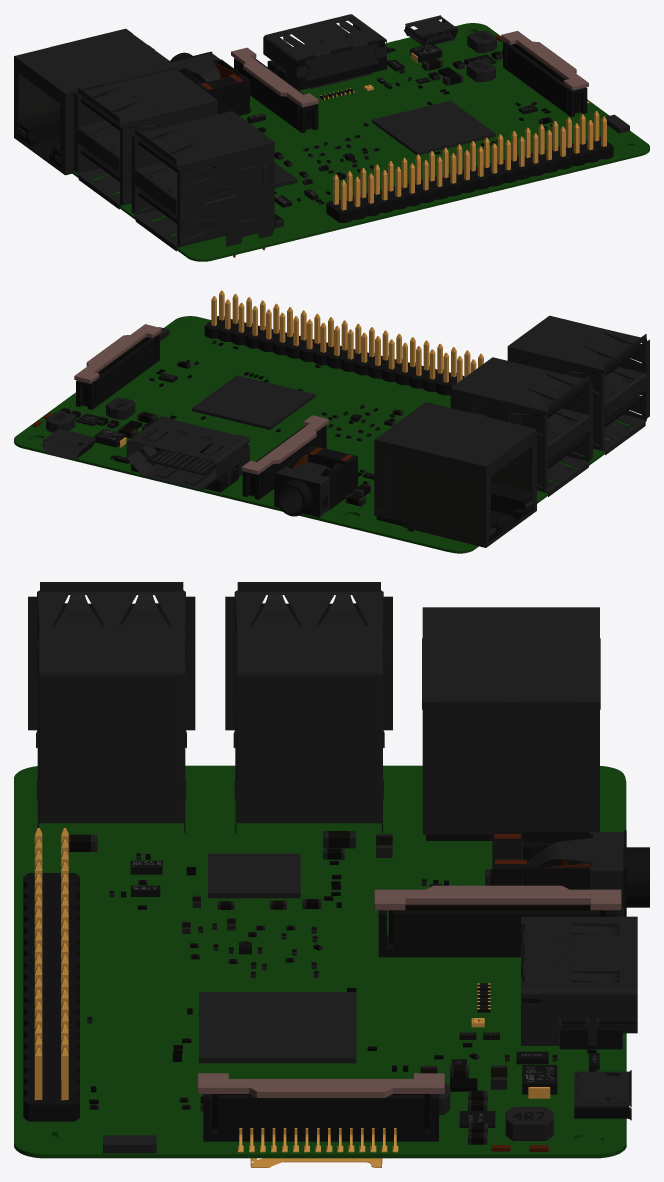
The model's file is RaspberryPi.obj.
The picture shows the model from 3 angles, top to bottom: view 1: azimuth 30°, elevation 25°; view 2: azimuth 150°, elevation 25°; view 3: azimuth 270°, elevation 25°; orthographic projection. The views are drawn at different scales.
Parts seen in each view (by area): view 1: RaspberryPi_; view 2: RaspberryPi_; view 3: RaspberryPi_.
Boxes of the visible parts, bbox=[...] form: RaspberryPi_: bbox=[14, 14, 649, 261]; RaspberryPi_: bbox=[14, 290, 649, 553]; RaspberryPi_: bbox=[14, 582, 649, 1167].
Bounding box in the file's own units: 8.64 × 1.97 × 5.81.
